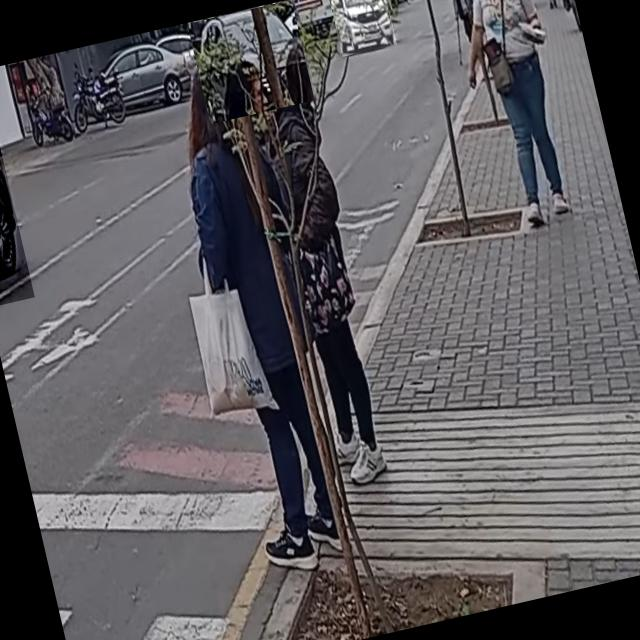car: (187, 0, 315, 124), (0, 72, 34, 307), (327, 0, 397, 56)
